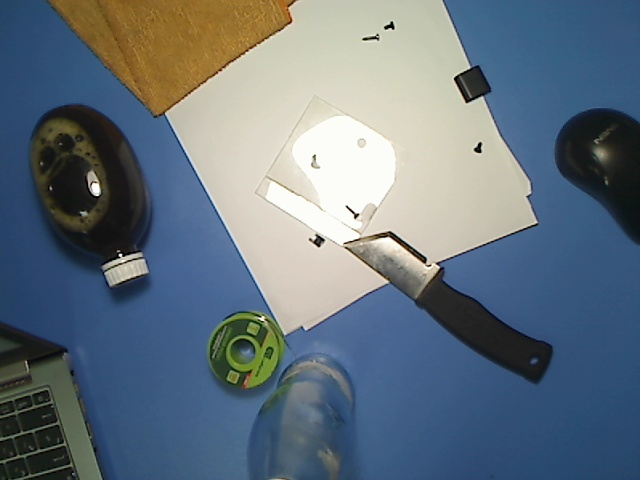plast_bottle: (23, 96, 156, 297)
